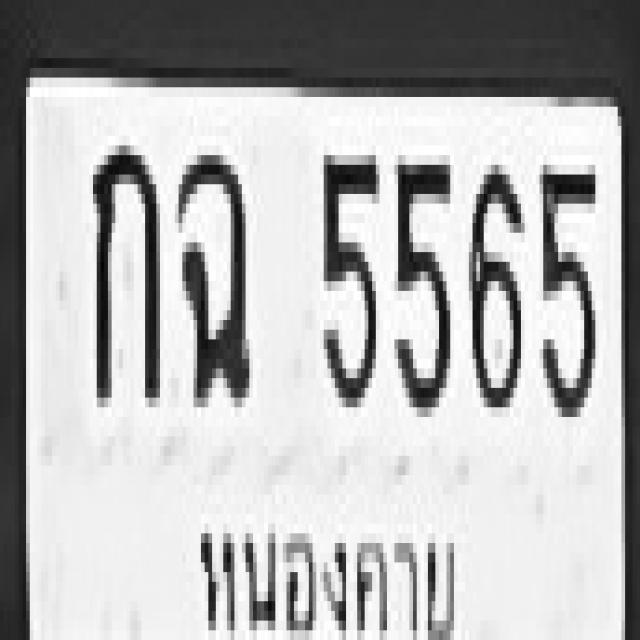-: (175, 146, 245, 398), (90, 136, 156, 398)
5: (391, 146, 446, 408), (320, 146, 376, 398), (536, 155, 592, 407)
6: (465, 155, 517, 407)
NKI: (183, 478, 466, 640)
